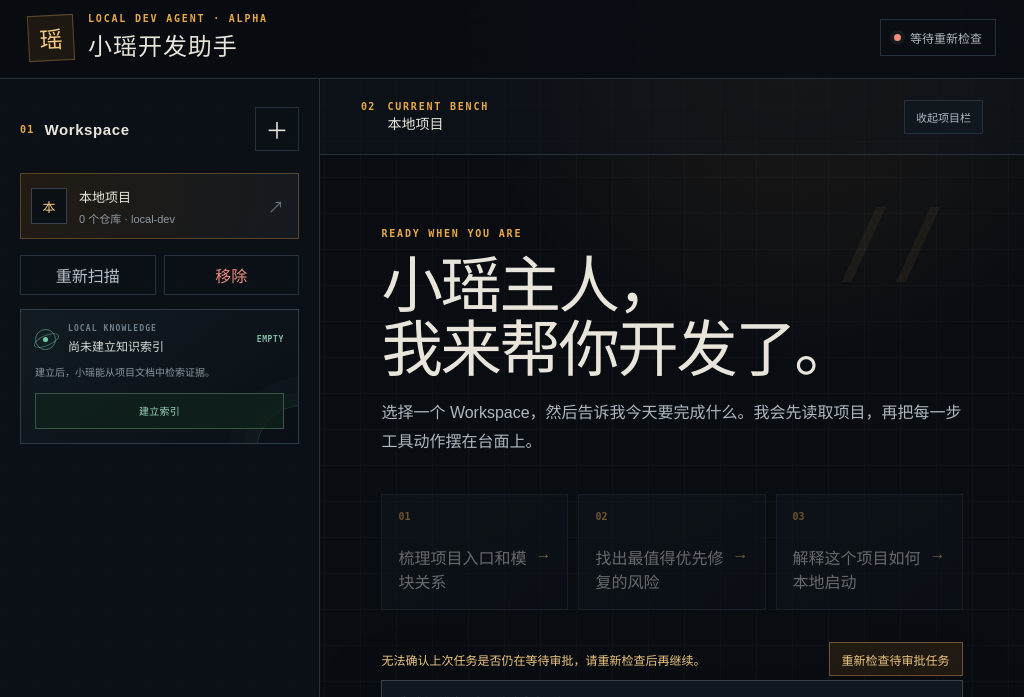
Scenario: 小瑶开发助手工作台 › fails closed when recovery fails and can retry
Check: the button "01 梳理项目入口和模块关系 →" is disabled, box [381,494,568,610]
Click the button "重新检查待审批任务": point(896, 659) [828,642,962,676]
(page scrolled)
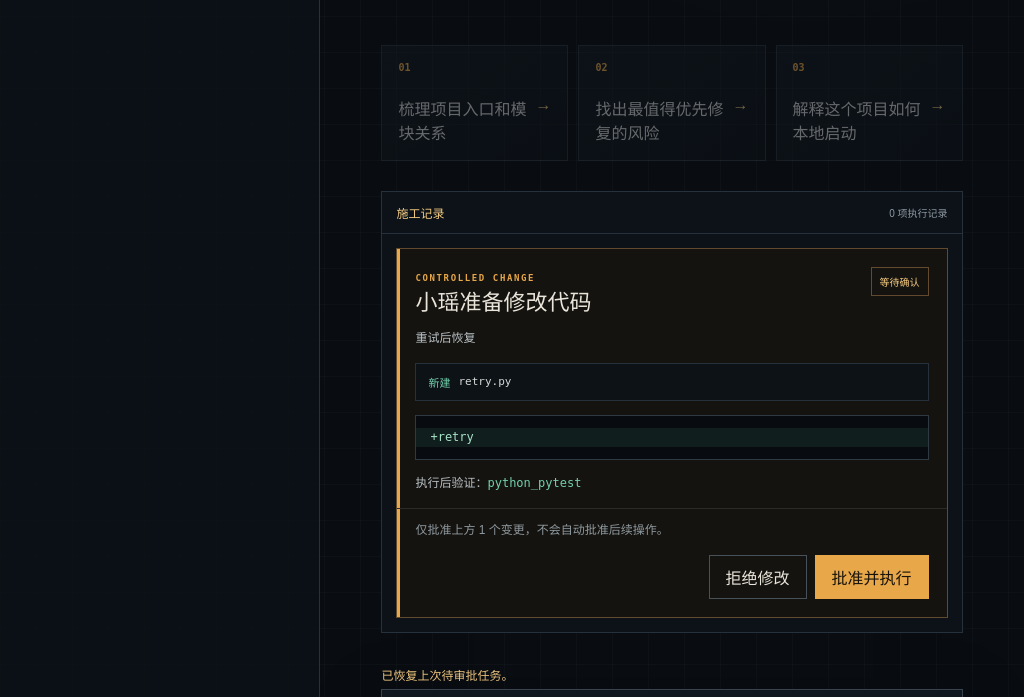
Check: the text "retry.py" is shown, box [458,375,511,388]
